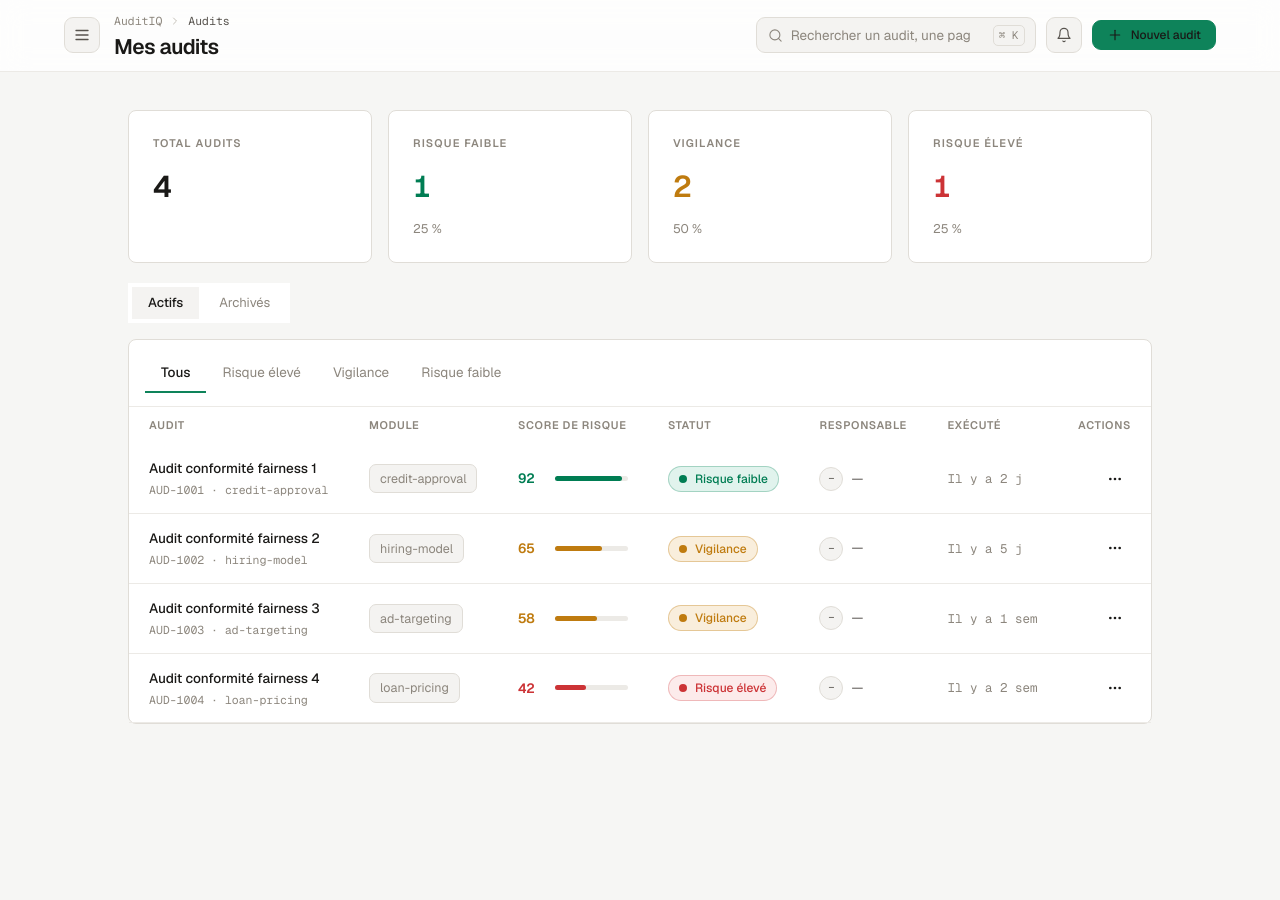
Scenario: AuditsListPage - R4 Refonte › filters to only "Non conformes" when tab is clicked
Click the tab "Risque élevé" at x=262, y=374, box [206,354,317,393]
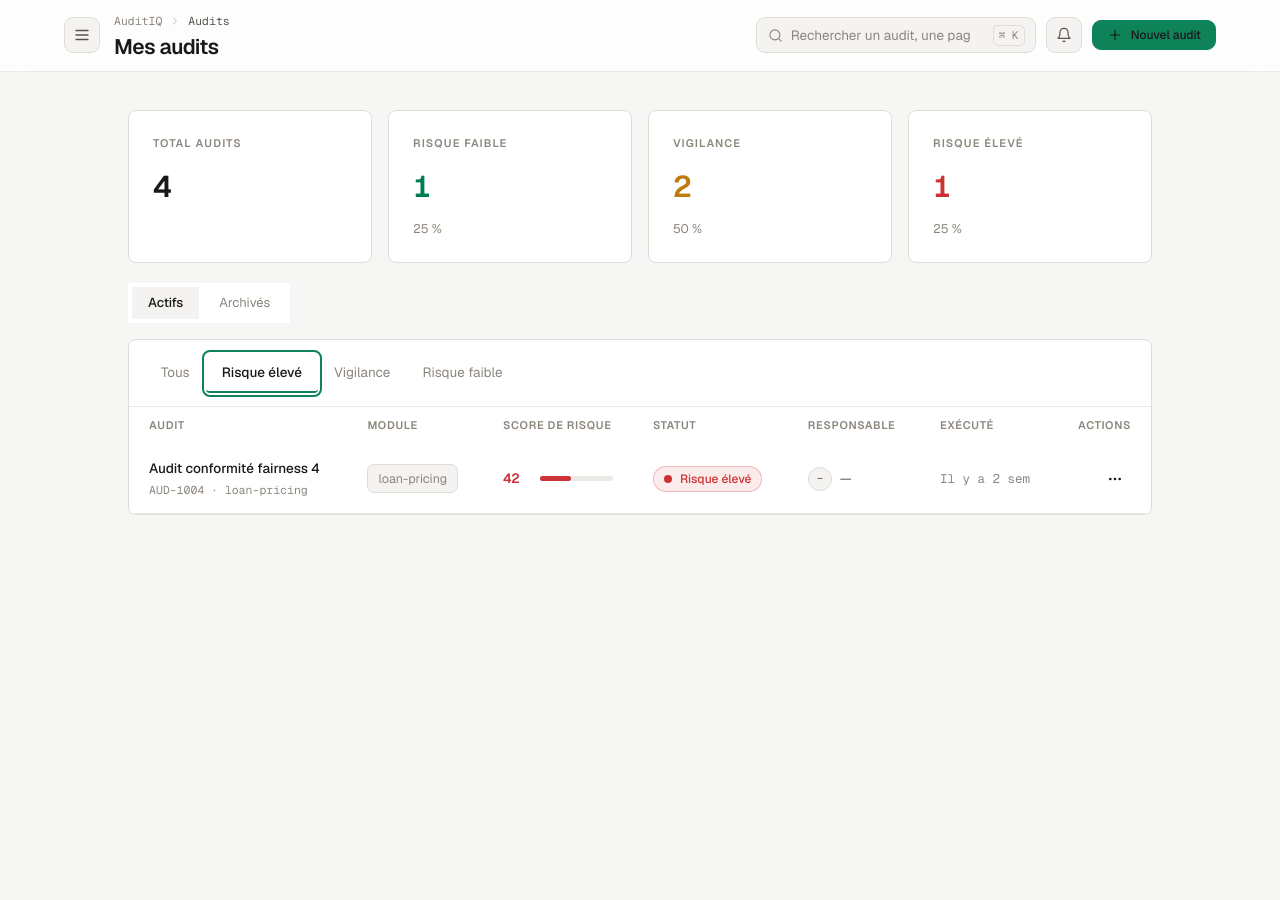
Expected: the text "Audit conformité fairness 4" is shown, [149,458,327,479]
Now the link "Audit conformité fairness 1" is gone
